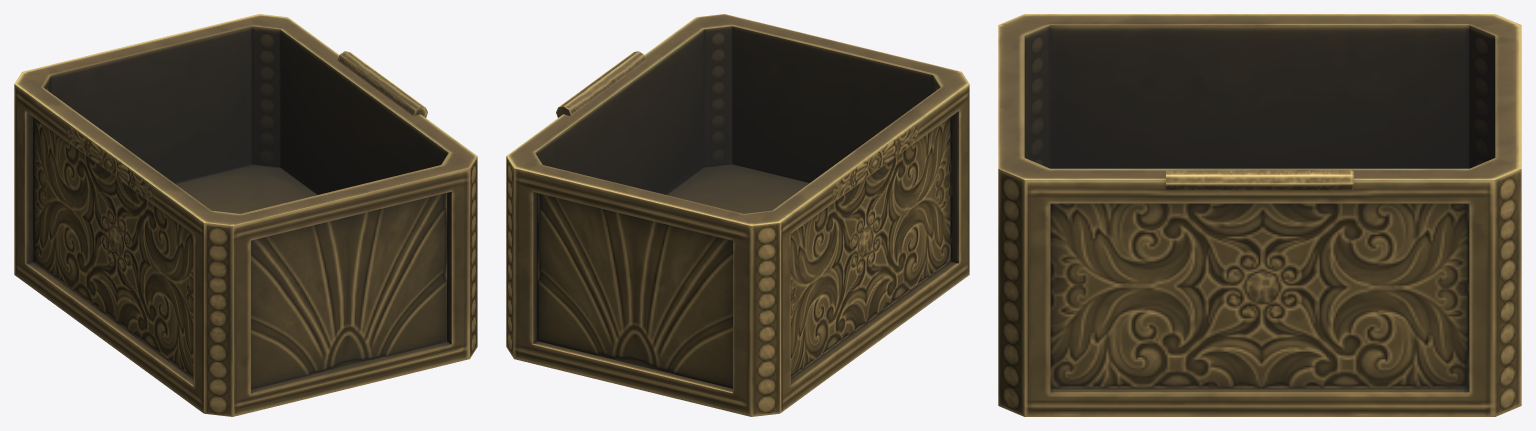
File: SM_Jewelry_Box_A_Gold.fbx
3 renders of one model, left to right at view 1: azimuth 30°, elevation 25°; view 2: azimuth 150°, elevation 25°; view 3: azimuth 270°, elevation 25°, orthographic. The views are drawn at different scales.
Visible parts, largest first — view 1: SM_Jewelry_Box_A_Gold_LOD0; view 2: SM_Jewelry_Box_A_Gold_LOD0; view 3: SM_Jewelry_Box_A_Gold_LOD0.
Part boxes in pixels (box(x1,y1,x2,y2)): SM_Jewelry_Box_A_Gold_LOD0: box(14, 14, 477, 416); SM_Jewelry_Box_A_Gold_LOD0: box(506, 14, 969, 416); SM_Jewelry_Box_A_Gold_LOD0: box(998, 14, 1521, 416).
Size of the model in its own units: 15.41 by 20 by 10.41.
Materials: 1 (1 with a texture image).
